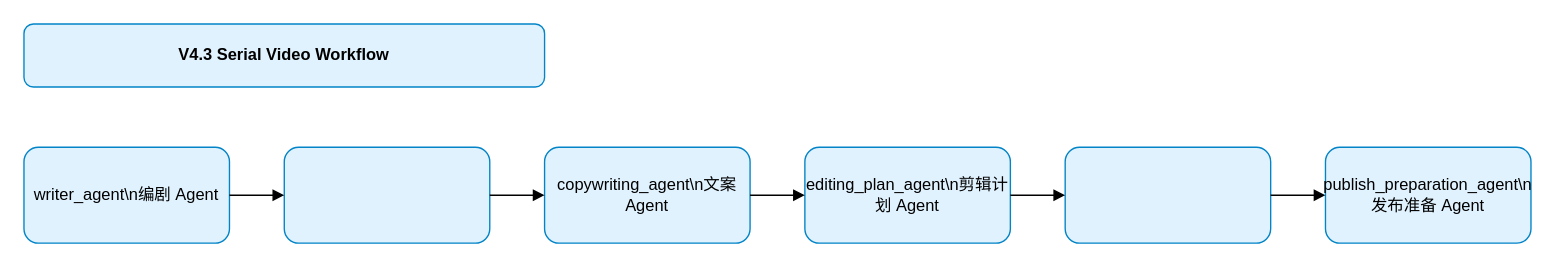
Some shapes in this 1556 by 267 pixel diagram are drawn without their labels. Here are the shapes that lost their labels. From the top down, the centre of each, then its label:
the point at 386,194: storyboard_agent\n分镜 Agent
the point at 1167,194: quality_review_agent\n质量审查 Agent
